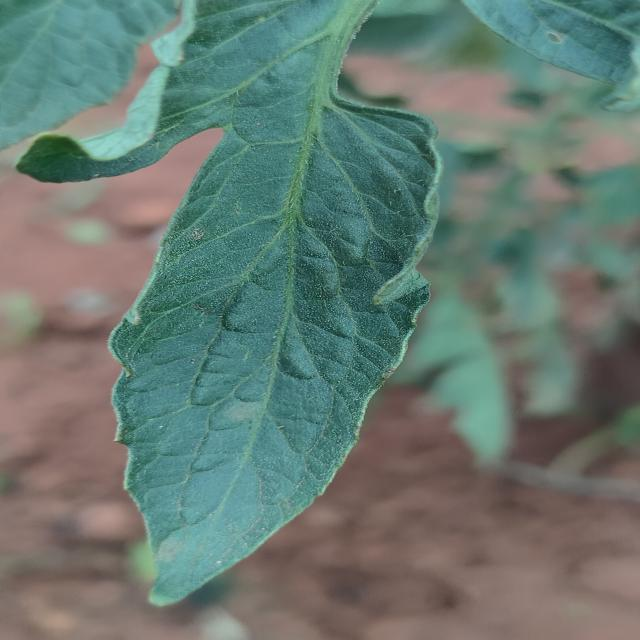tomato_healthy: (11, 0, 450, 605), (465, 0, 639, 107)
